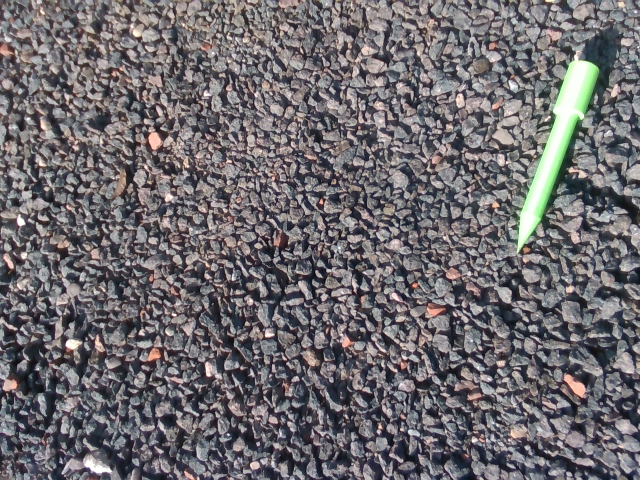Probe: (509, 57, 602, 262)
